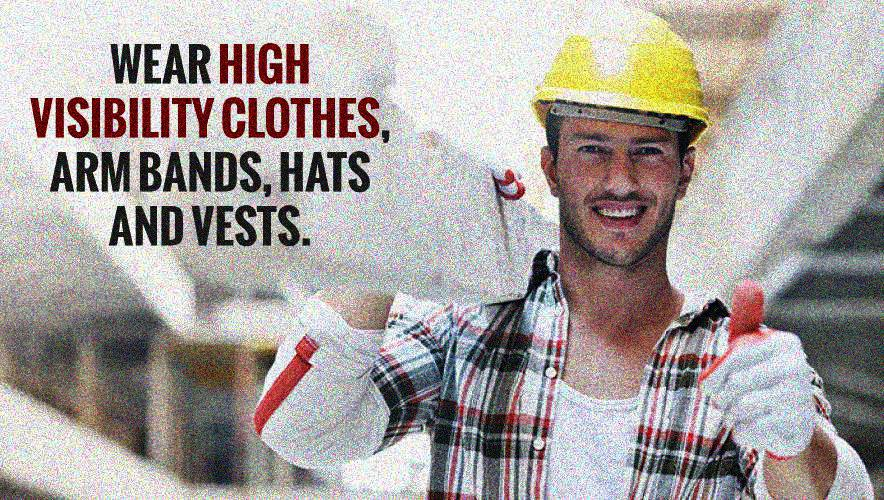helmet: (533, 7, 714, 265)
